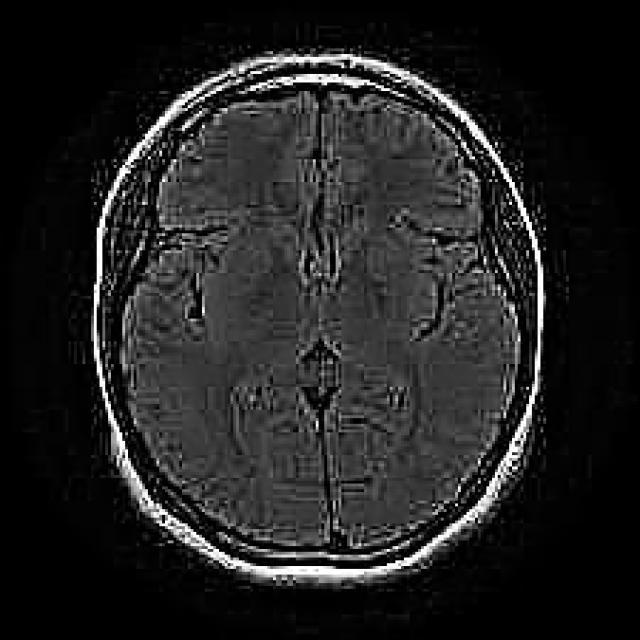notumor: (88, 51, 546, 594)
